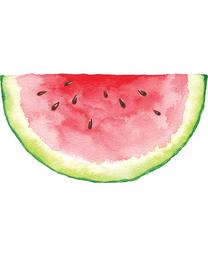watermelon: (1, 75, 206, 183)
